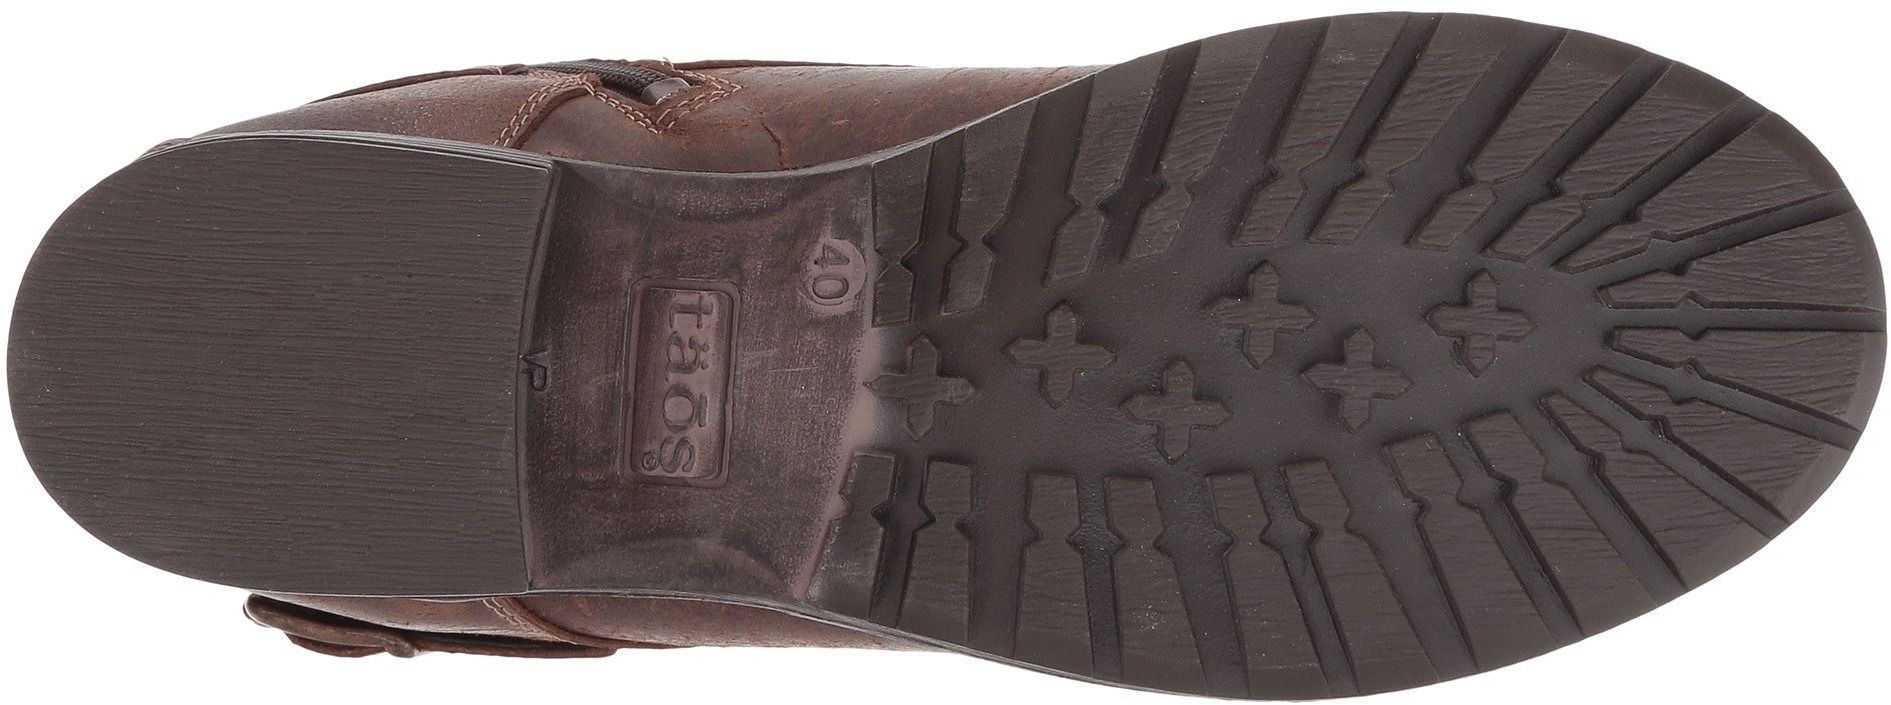bowtie: (1214, 7, 1510, 252), (1548, 208, 1822, 468), (1192, 458, 1435, 691), (871, 99, 1055, 336), (790, 456, 996, 647), (1008, 450, 1195, 631), (1229, 94, 1425, 255), (1195, 456, 1375, 628), (841, 448, 993, 593), (863, 190, 1013, 331)
other: (122, 175, 513, 531)
star: (1002, 290, 1124, 413), (1418, 264, 1542, 384), (1198, 259, 1324, 377), (1113, 363, 1245, 466), (1313, 323, 1422, 437)
